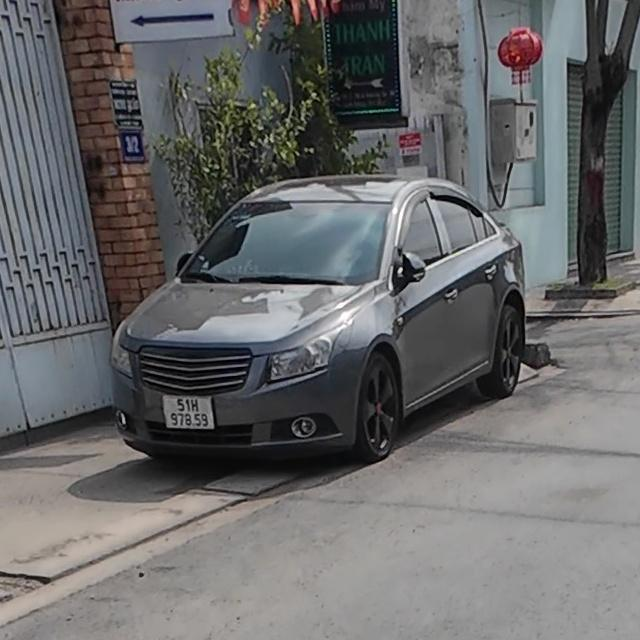car: (111, 170, 533, 472)
plate: (158, 390, 218, 434)
